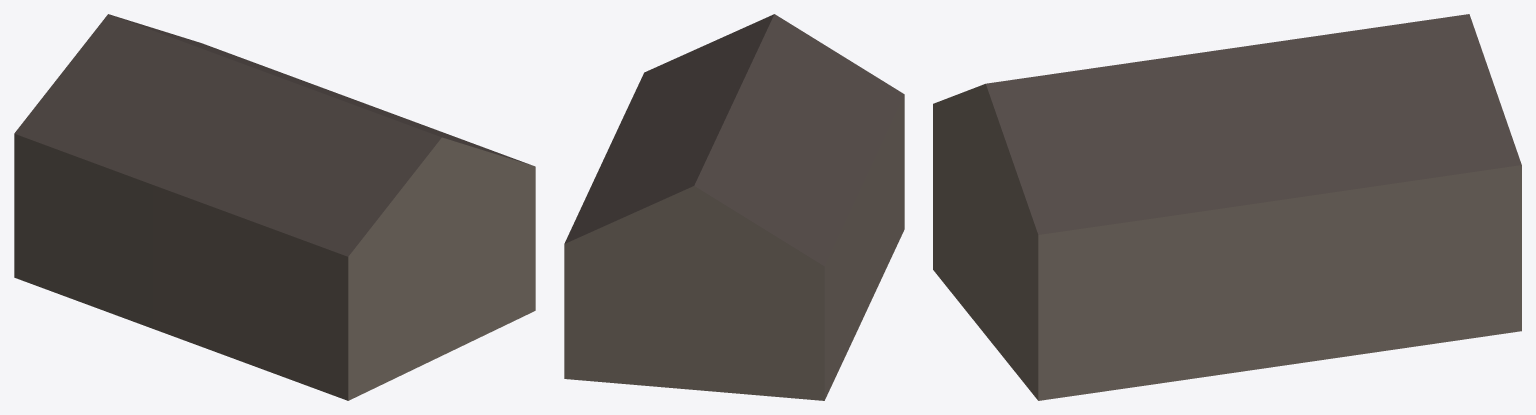
3 views of the same model, side by side, from view 1: azimuth 30°, elevation 25°; view 2: azimuth 150°, elevation 25°; view 3: azimuth 270°, elevation 25° (orthographic). The views are drawn at different scales.
Parts seen in each view (by area): view 1: HP-w1198842492; view 2: HP-w1198842492; view 3: HP-w1198842492.
Boxes of the visible parts, left/top/right/bottom form: HP-w1198842492: left=14, top=14, right=535, bottom=400; HP-w1198842492: left=564, top=14, right=904, bottom=400; HP-w1198842492: left=933, top=14, right=1521, bottom=400.
Bounding box in the file's own units: 15.58 × 9.1 × 19.29.
